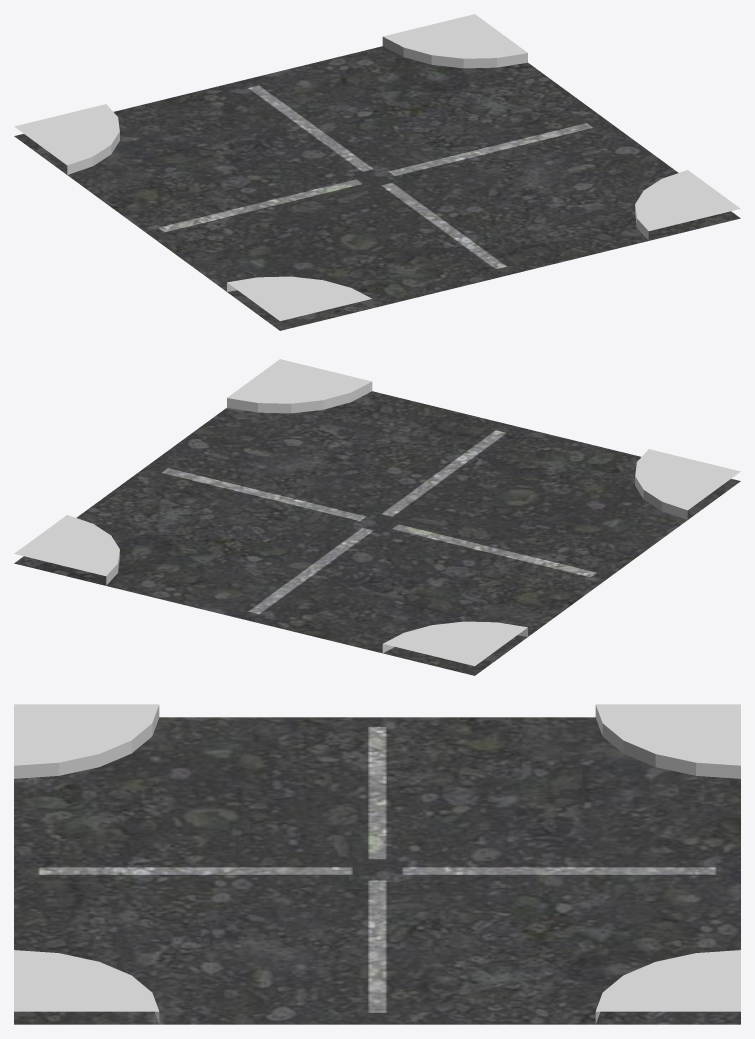
Rendered from road1.fbx.
3 renders of one model, top to bottom at view 1: azimuth 30°, elevation 25°; view 2: azimuth 150°, elevation 25°; view 3: azimuth 270°, elevation 25°, orthographic. The views are drawn at different scales.
Visible parts, largest first — view 1: Plane; view 2: Plane; view 3: Plane.
Part boxes in pixels (left/top/right/bottom): Plane: left=14, top=14, right=740, bottom=330; Plane: left=14, top=359, right=740, bottom=675; Plane: left=14, top=704, right=740, bottom=1024.
Bounding box in the file's own units: 1000 × 20 × 1000.
